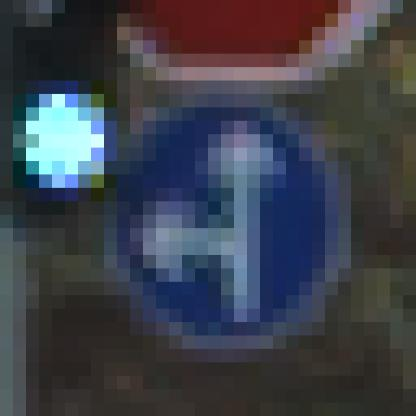Straight or Left: (79, 68, 352, 350)
